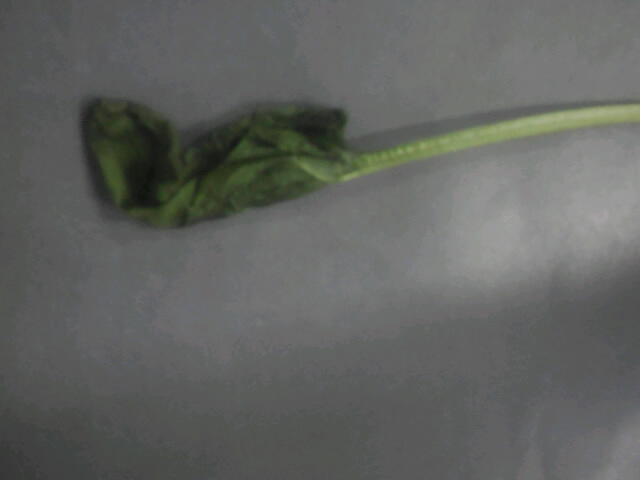yellow: (63, 50, 508, 279)
